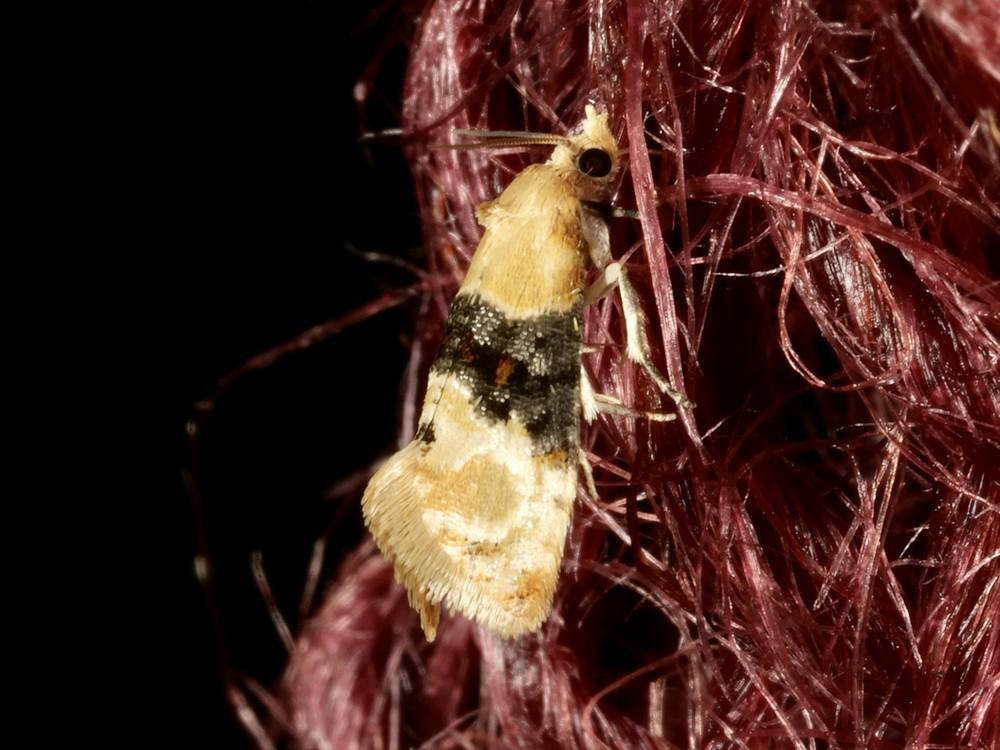Eupoecilia Ambiguella: (355, 98, 694, 645)
